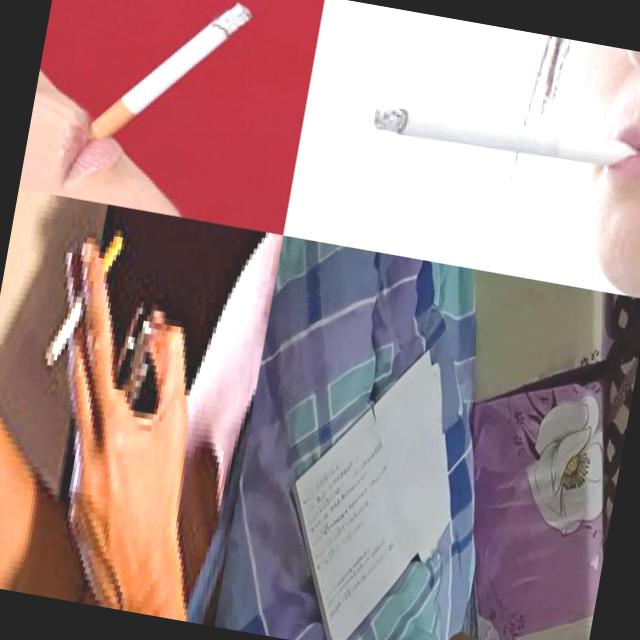cigarette: (74, 0, 255, 181), (371, 100, 640, 177), (32, 208, 132, 392), (461, 621, 492, 640)
